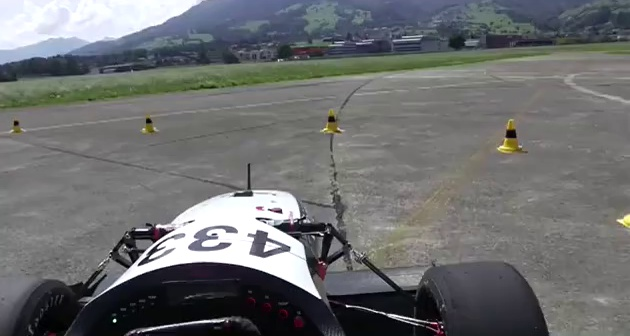Cone: (497, 118, 528, 155), (320, 109, 346, 134), (141, 112, 157, 134), (9, 115, 25, 132)
